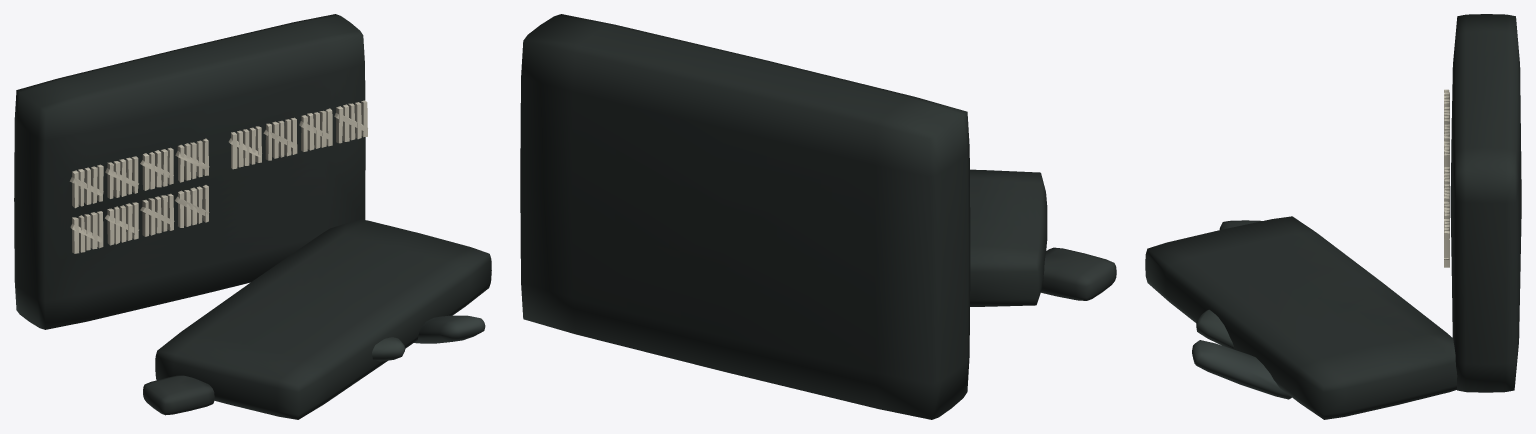
Rendered from tally_slab_c.glb.
The picture shows the model from 3 angles, left to right: view 1: azimuth 30°, elevation 25°; view 2: azimuth 150°, elevation 25°; view 3: azimuth 270°, elevation 25°; orthographic projection. The views are drawn at different scales.
Parts seen in each view (by area): view 1: Surface; view 2: Surface; view 3: Surface.
Boxes of the visible parts, x1,y1,x2,y2 form: Surface: (14, 14, 491, 419); Surface: (520, 14, 1116, 419); Surface: (1145, 14, 1521, 419).
Bounding box in the file's own units: 1.75 × 1.05 × 1.48.
